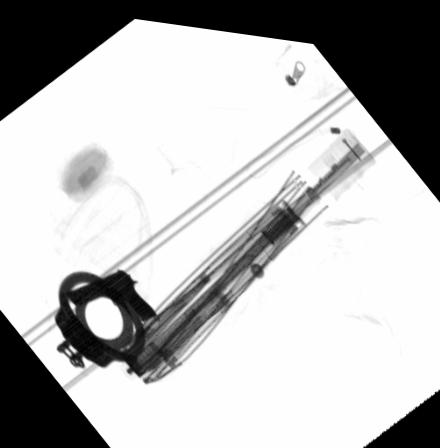Gun: (69, 263, 160, 317)
HandCuffs: (52, 265, 144, 369)
